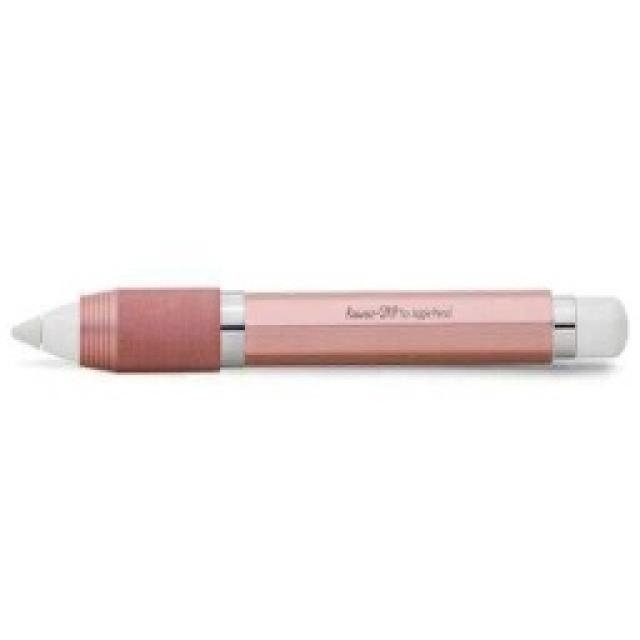pencil: (8, 280, 630, 375)
